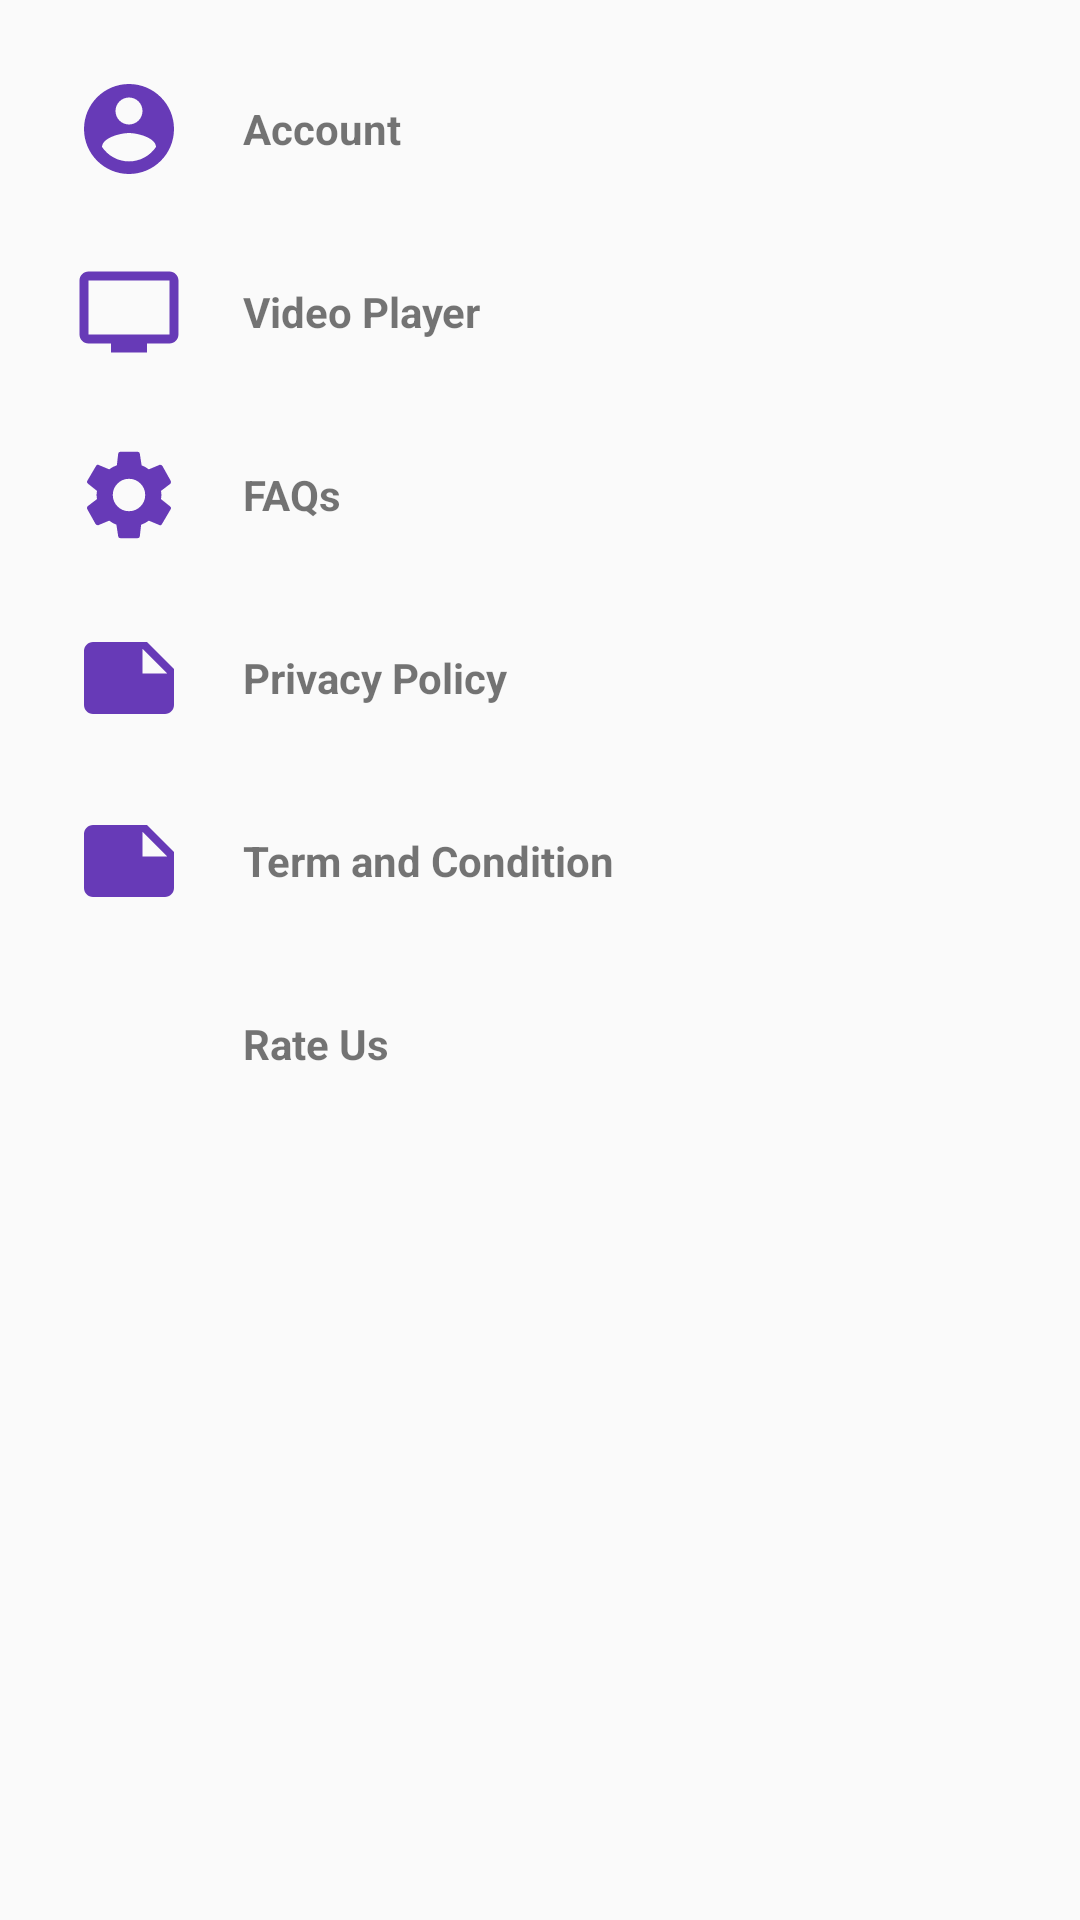

Point at icon controls on the screen. Image size 1080px×1920px, points as point (x, y).
notepad: point (129, 678), point (129, 861)
settings: point (129, 495)
